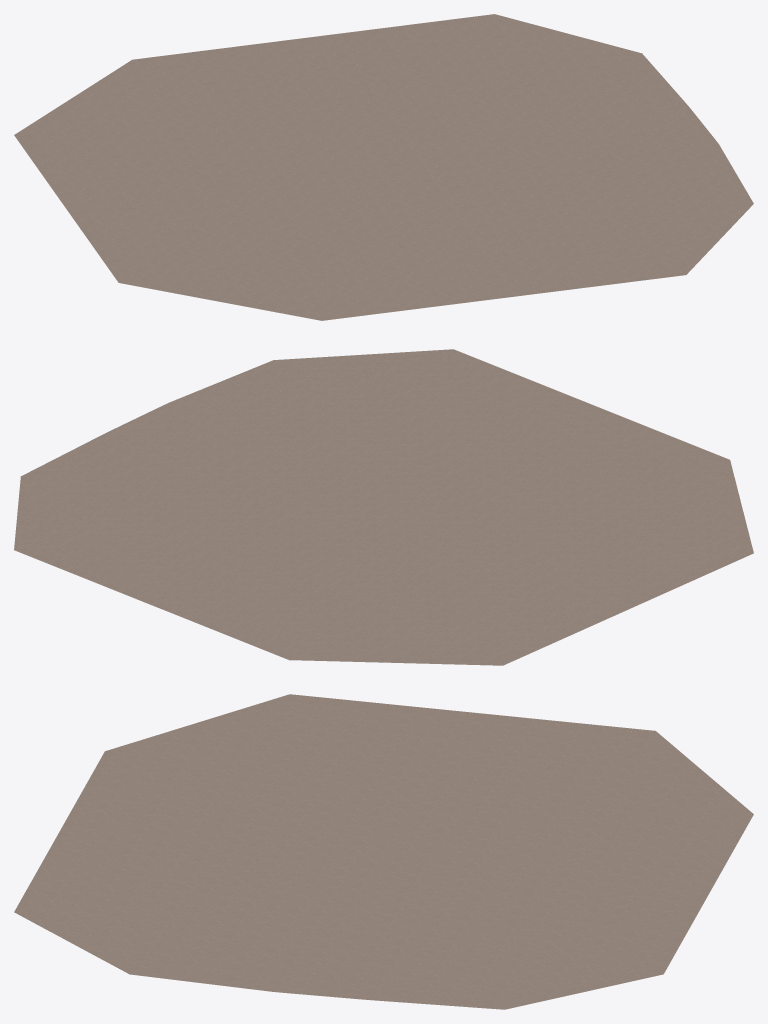
Rendered from kd_stage_1364a3_4_14.glb.
3 renders of one model, top to bottom at view 1: azimuth 30°, elevation 25°; view 2: azimuth 150°, elevation 25°; view 3: azimuth 270°, elevation 25°, orthographic. The views are drawn at different scales.
Parts seen in each view (by area): view 1: kd_stage_1364a3_4_14; view 2: kd_stage_1364a3_4_14; view 3: kd_stage_1364a3_4_14.
Part boxes in pixels (x1,y1,x2,y2): kd_stage_1364a3_4_14: (14,14,753,320); kd_stage_1364a3_4_14: (14,349,753,665); kd_stage_1364a3_4_14: (14,694,753,1009).
Bounding box in the file's own units: 70.39 × 3.81e-06 × 69.76.
Materials: 1 (1 with a texture image).
